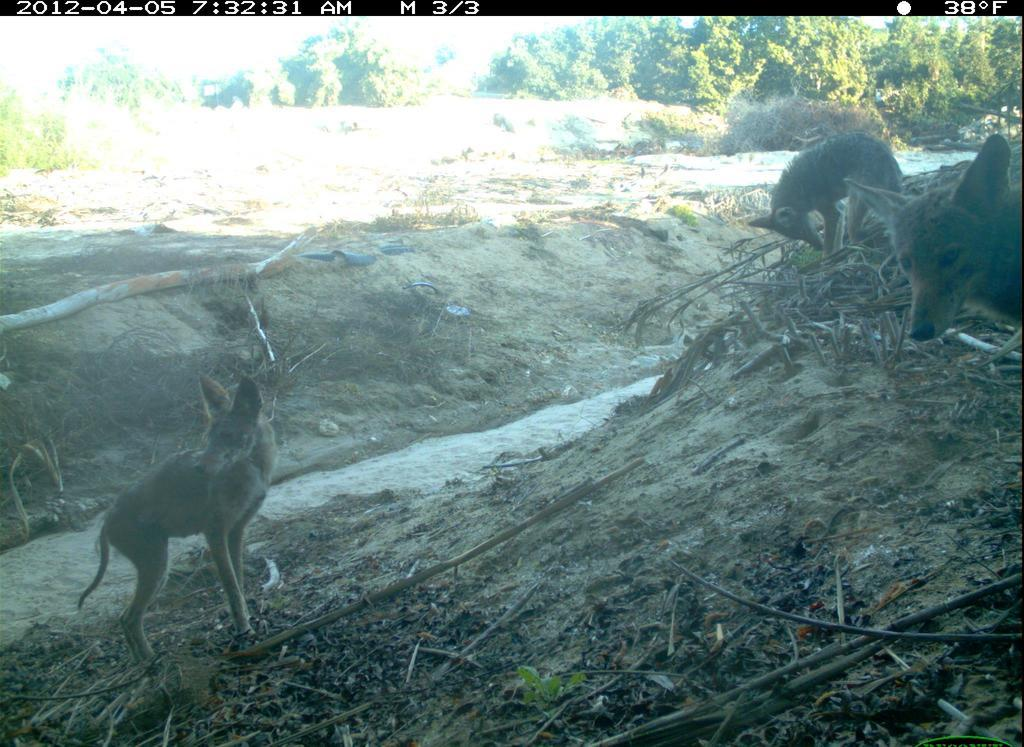coyote: (66, 361, 306, 692), (849, 127, 1021, 364), (747, 131, 920, 259)
